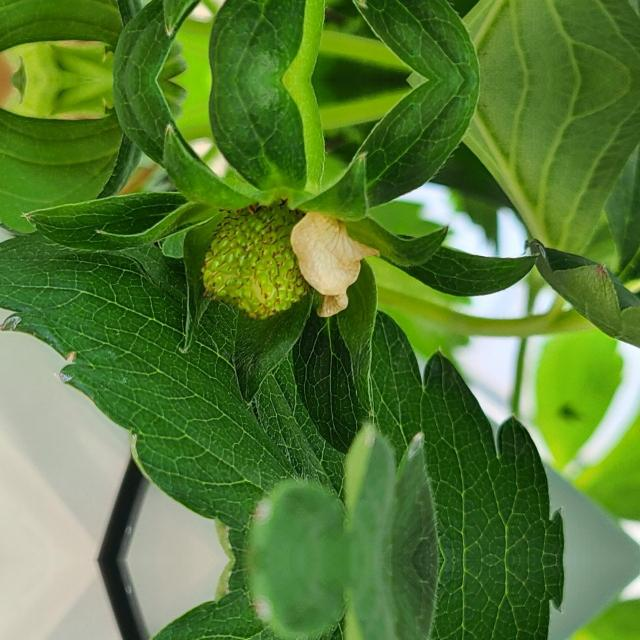Health_25: (201, 199, 309, 319)
